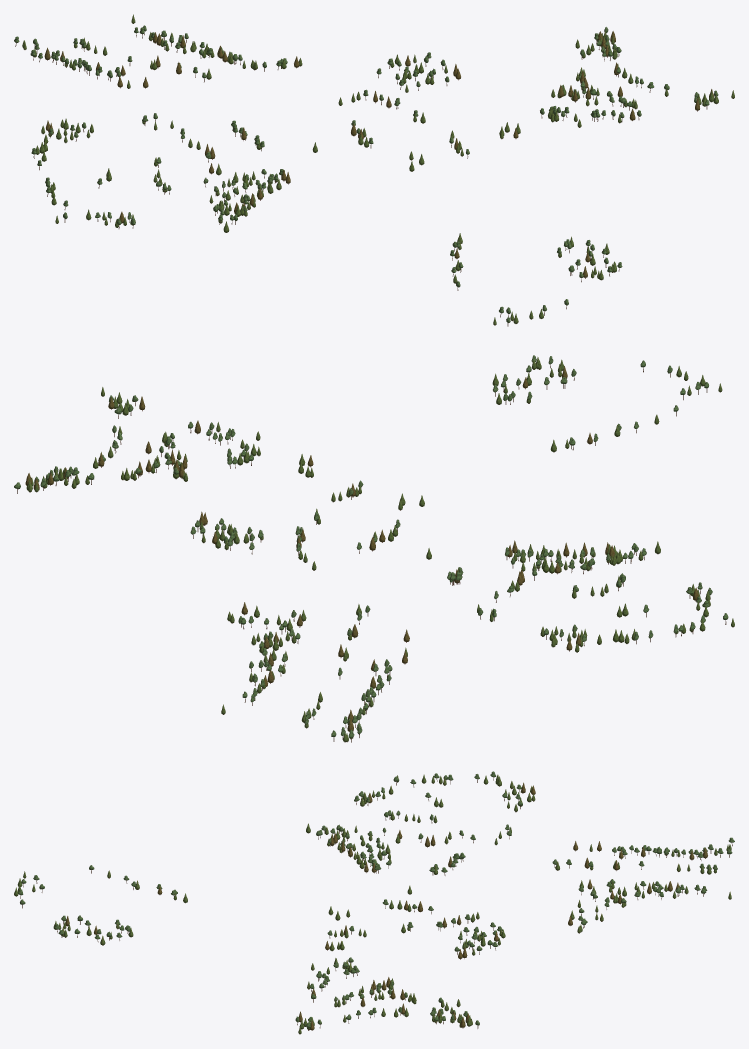
The model's file is simpleTreez.fbx.
The picture shows the model from 3 angles, top to bottom: view 1: azimuth 30°, elevation 25°; view 2: azimuth 150°, elevation 25°; view 3: azimuth 270°, elevation 25°; orthographic projection. The views are drawn at different scales.
Visible parts, largest first — view 1: TreeD3.293, TreeB2.225, TreeD1.275, TreeA3.209, TreeD2.234, TreeA3.203, TreeA3.202, TreeA1.223, TreeD1.271; view 2: TreeD3.293, TreeA3.203, TreeD1.275, TreeA3.209, TreeB2.225, TreeA1.223, TreeD2.234, TreeA3.202, TreeD1.271; view 3: TreeD3.293, TreeA3.203, TreeD1.275, TreeB2.225, TreeA3.209, TreeA3.202, TreeA1.223, TreeD2.234, TreeD1.271.
Part boxes in pixels (x1,y1,x2,y2): TreeD3.293: (203, 163, 290, 232); TreeB2.225: (376, 52, 460, 92); TreeD1.275: (551, 67, 637, 110); TreeA3.209: (557, 236, 622, 282); TreeD2.234: (31, 118, 93, 170); TreeA3.203: (199, 43, 302, 71); TreeA3.202: (131, 14, 204, 54); TreeA1.223: (575, 27, 621, 61); TreeD1.271: (14, 36, 82, 70); TreeD3.293: (505, 540, 660, 574); TreeA3.203: (227, 602, 306, 653); TreeD1.275: (121, 431, 187, 481); TreeA3.209: (492, 355, 576, 404); TreeB2.225: (190, 511, 263, 554); TreeA1.223: (14, 466, 94, 493); TreeD2.234: (540, 624, 653, 652); TreeA3.202: (221, 647, 287, 714); TreeD1.271: (331, 693, 373, 742); TreeD3.293: (306, 823, 402, 873); TreeA3.203: (568, 879, 626, 933); TreeD1.275: (334, 977, 416, 1007); TreeB2.225: (454, 922, 505, 959); TreeA3.209: (53, 915, 133, 945); TreeA3.202: (634, 881, 731, 899); TreeA1.223: (430, 997, 479, 1028); TreeD2.234: (474, 771, 535, 812); TreeD1.271: (663, 837, 734, 860).
Bounding box in the file's own units: 87211 × 5193 × 99906.
